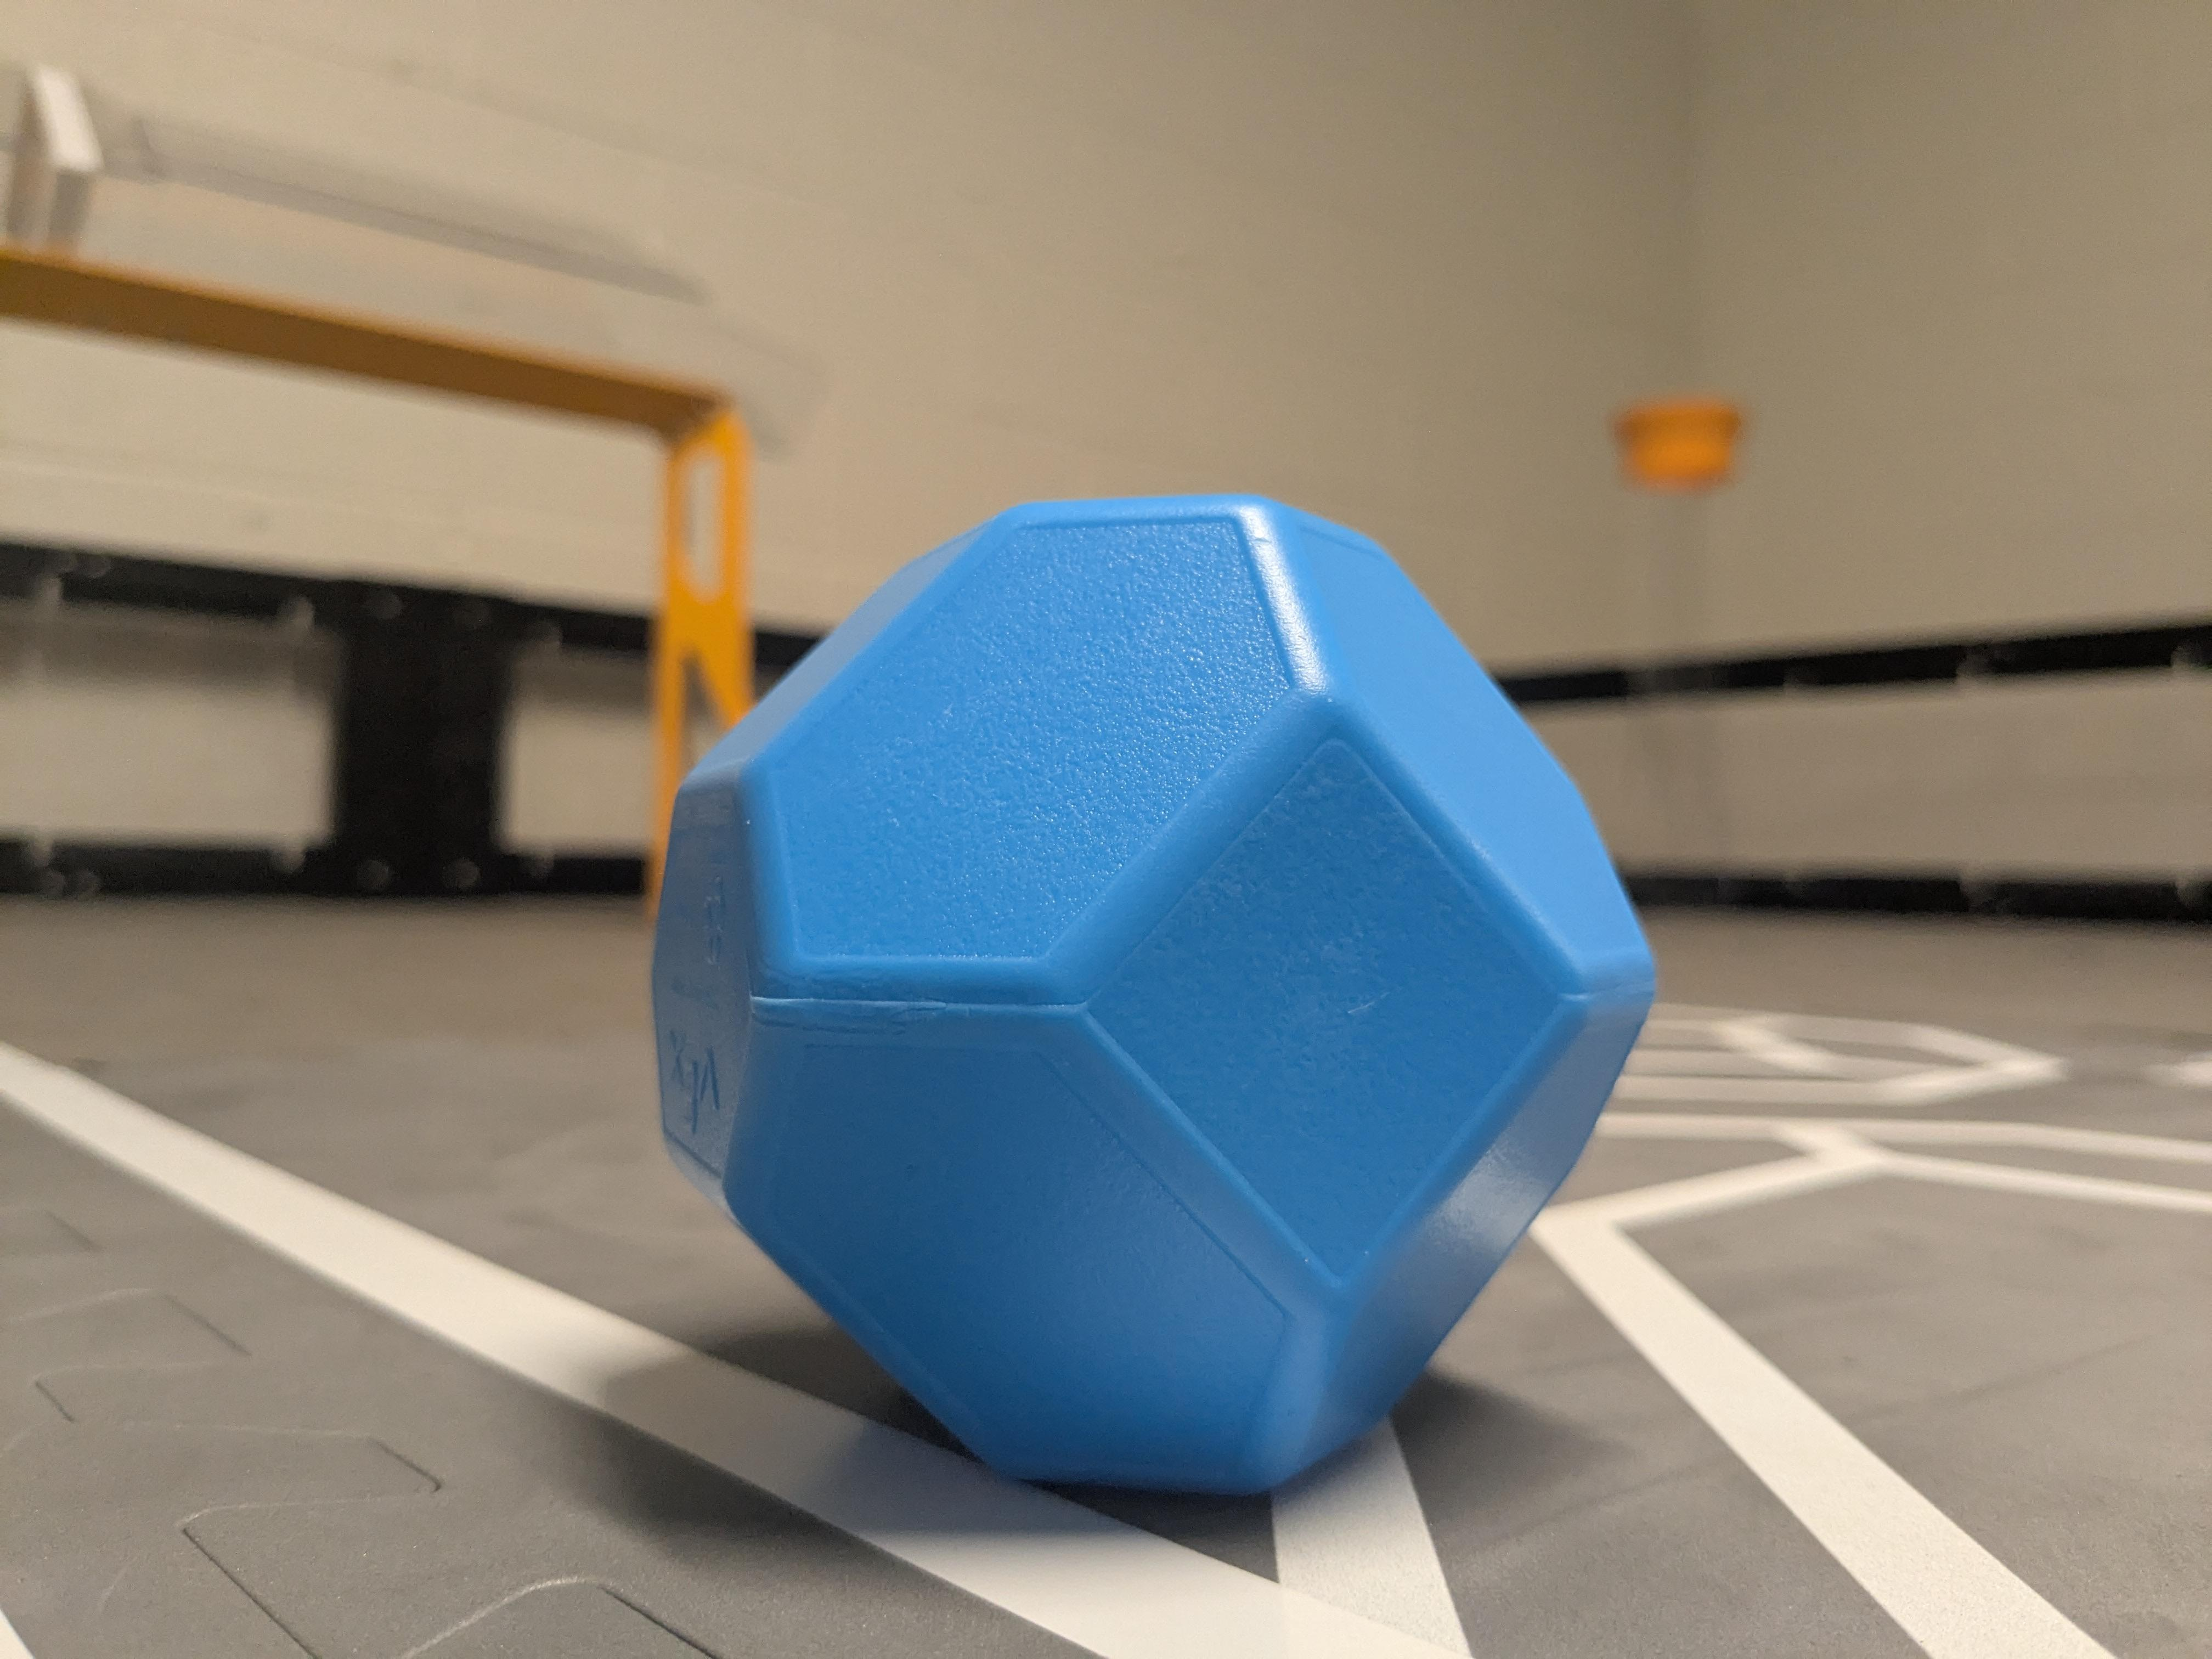Vex-Pieces-BLUE: (646, 495, 1655, 1480)
